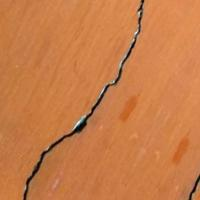crack: (15, 0, 154, 199)
